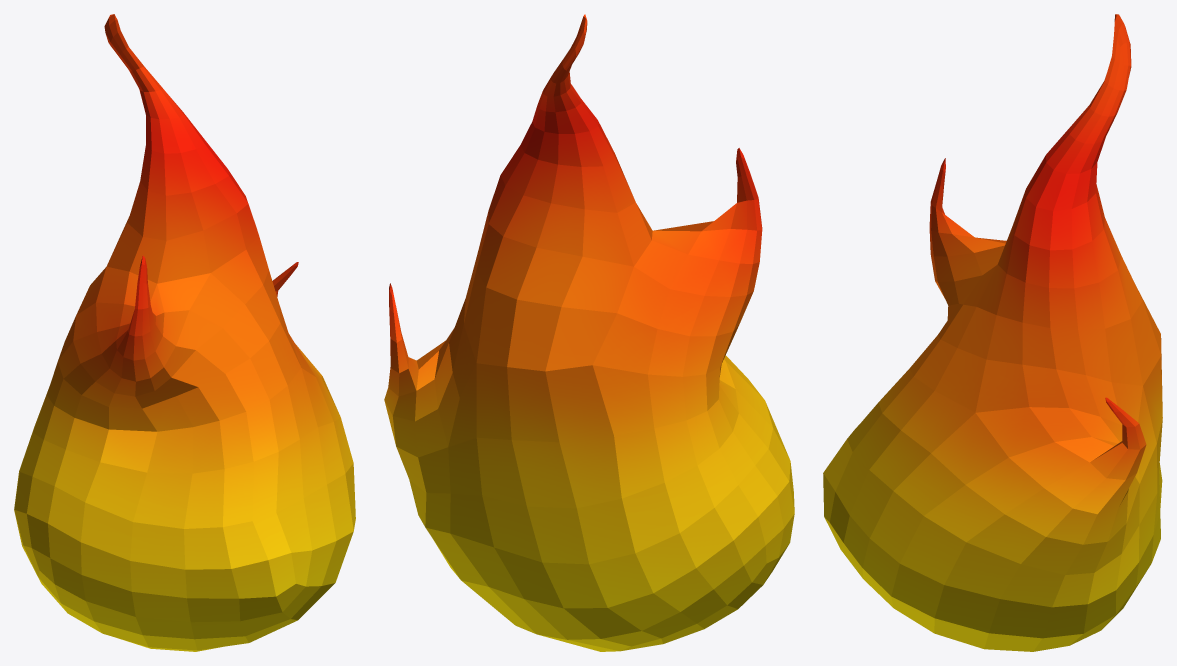
Rendered from fireball_keep.dae.
The picture shows the model from 3 angles, left to right: view 1: azimuth 30°, elevation 25°; view 2: azimuth 150°, elevation 25°; view 3: azimuth 270°, elevation 25°; orthographic projection. The views are drawn at different scales.
Parts seen in each view (by area): view 1: node_cd362edf_139f_4391_aac9_7b6ec8b5b8fc_mesh0; view 2: node_cd362edf_139f_4391_aac9_7b6ec8b5b8fc_mesh0; view 3: node_cd362edf_139f_4391_aac9_7b6ec8b5b8fc_mesh0.
Part boxes in pixels (bbox=[...]): node_cd362edf_139f_4391_aac9_7b6ec8b5b8fc_mesh0: bbox=[14, 14, 355, 651]; node_cd362edf_139f_4391_aac9_7b6ec8b5b8fc_mesh0: bbox=[384, 14, 794, 651]; node_cd362edf_139f_4391_aac9_7b6ec8b5b8fc_mesh0: bbox=[823, 14, 1162, 651].
Size of the model in its own units: 0.2994 by 0.5446 by 0.2772.
1 material, 1 textured.
